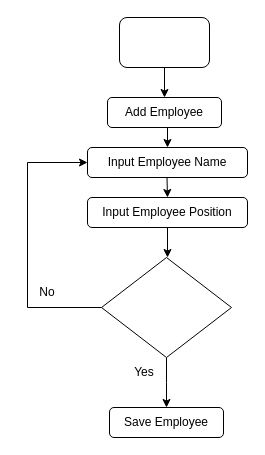
Some shapes in this 265 by 455 pixel diagram are drawn without their labels. The shapes that lost their labels are listed below. From the top down, each one's centre as x and y in pixels, then its label:
(x=164, y=42): ADMIN
(x=166, y=307): Would you like to save Employee?
